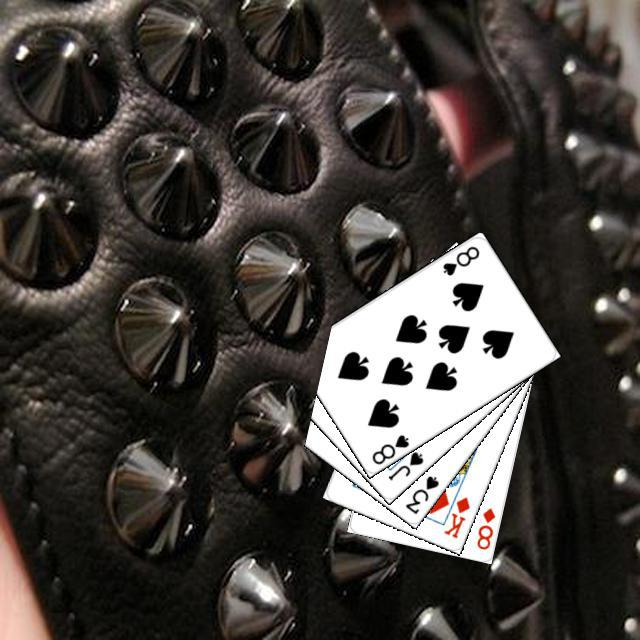3s: (400, 471, 441, 516)
8d: (472, 503, 497, 551)
8s: (367, 429, 411, 466), (438, 241, 481, 278)
Js: (383, 446, 425, 482)
Kd: (439, 492, 472, 540)
